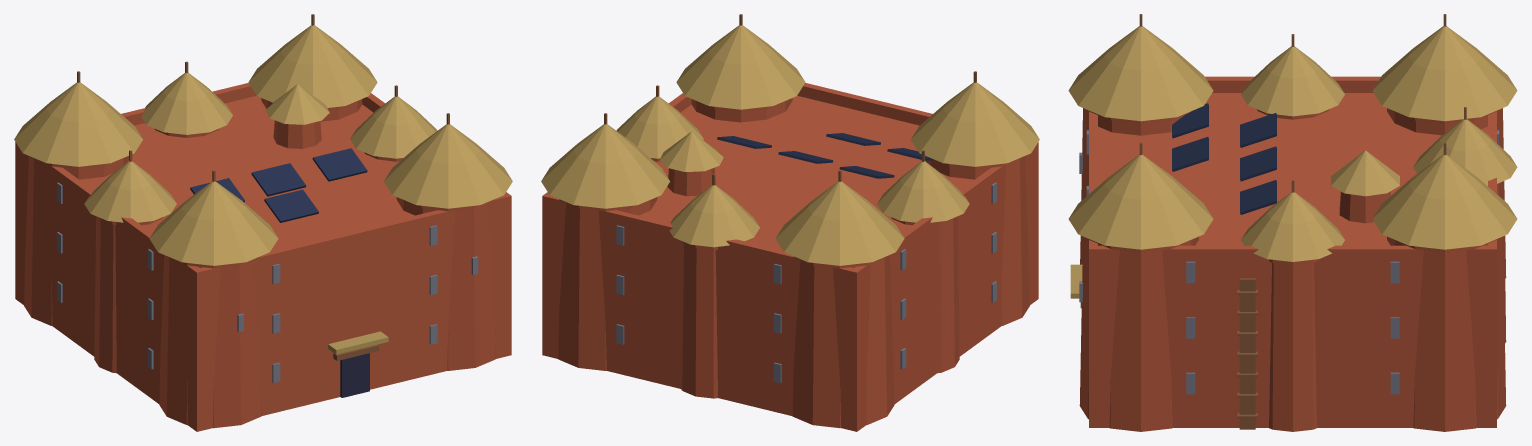
The model's file is house-2x2-3f-tata-a-solar.glb.
The picture shows the model from 3 angles, left to right: view 1: azimuth 30°, elevation 25°; view 2: azimuth 150°, elevation 25°; view 3: azimuth 270°, elevation 25°; orthographic projection. The views are drawn at different scales.
Parts seen in each view (by area): view 1: house-2x2-3f-tata-a-solar; view 2: house-2x2-3f-tata-a-solar; view 3: house-2x2-3f-tata-a-solar.
Part boxes in pixels (x1,y1,x2,y2): house-2x2-3f-tata-a-solar: (14,14,512,431); house-2x2-3f-tata-a-solar: (541,14,1039,431); house-2x2-3f-tata-a-solar: (1068,14,1517,431).
Bounding box in the file's own units: 1.98 × 1.28 × 1.98.
Materials: 1 (1 with a texture image).
